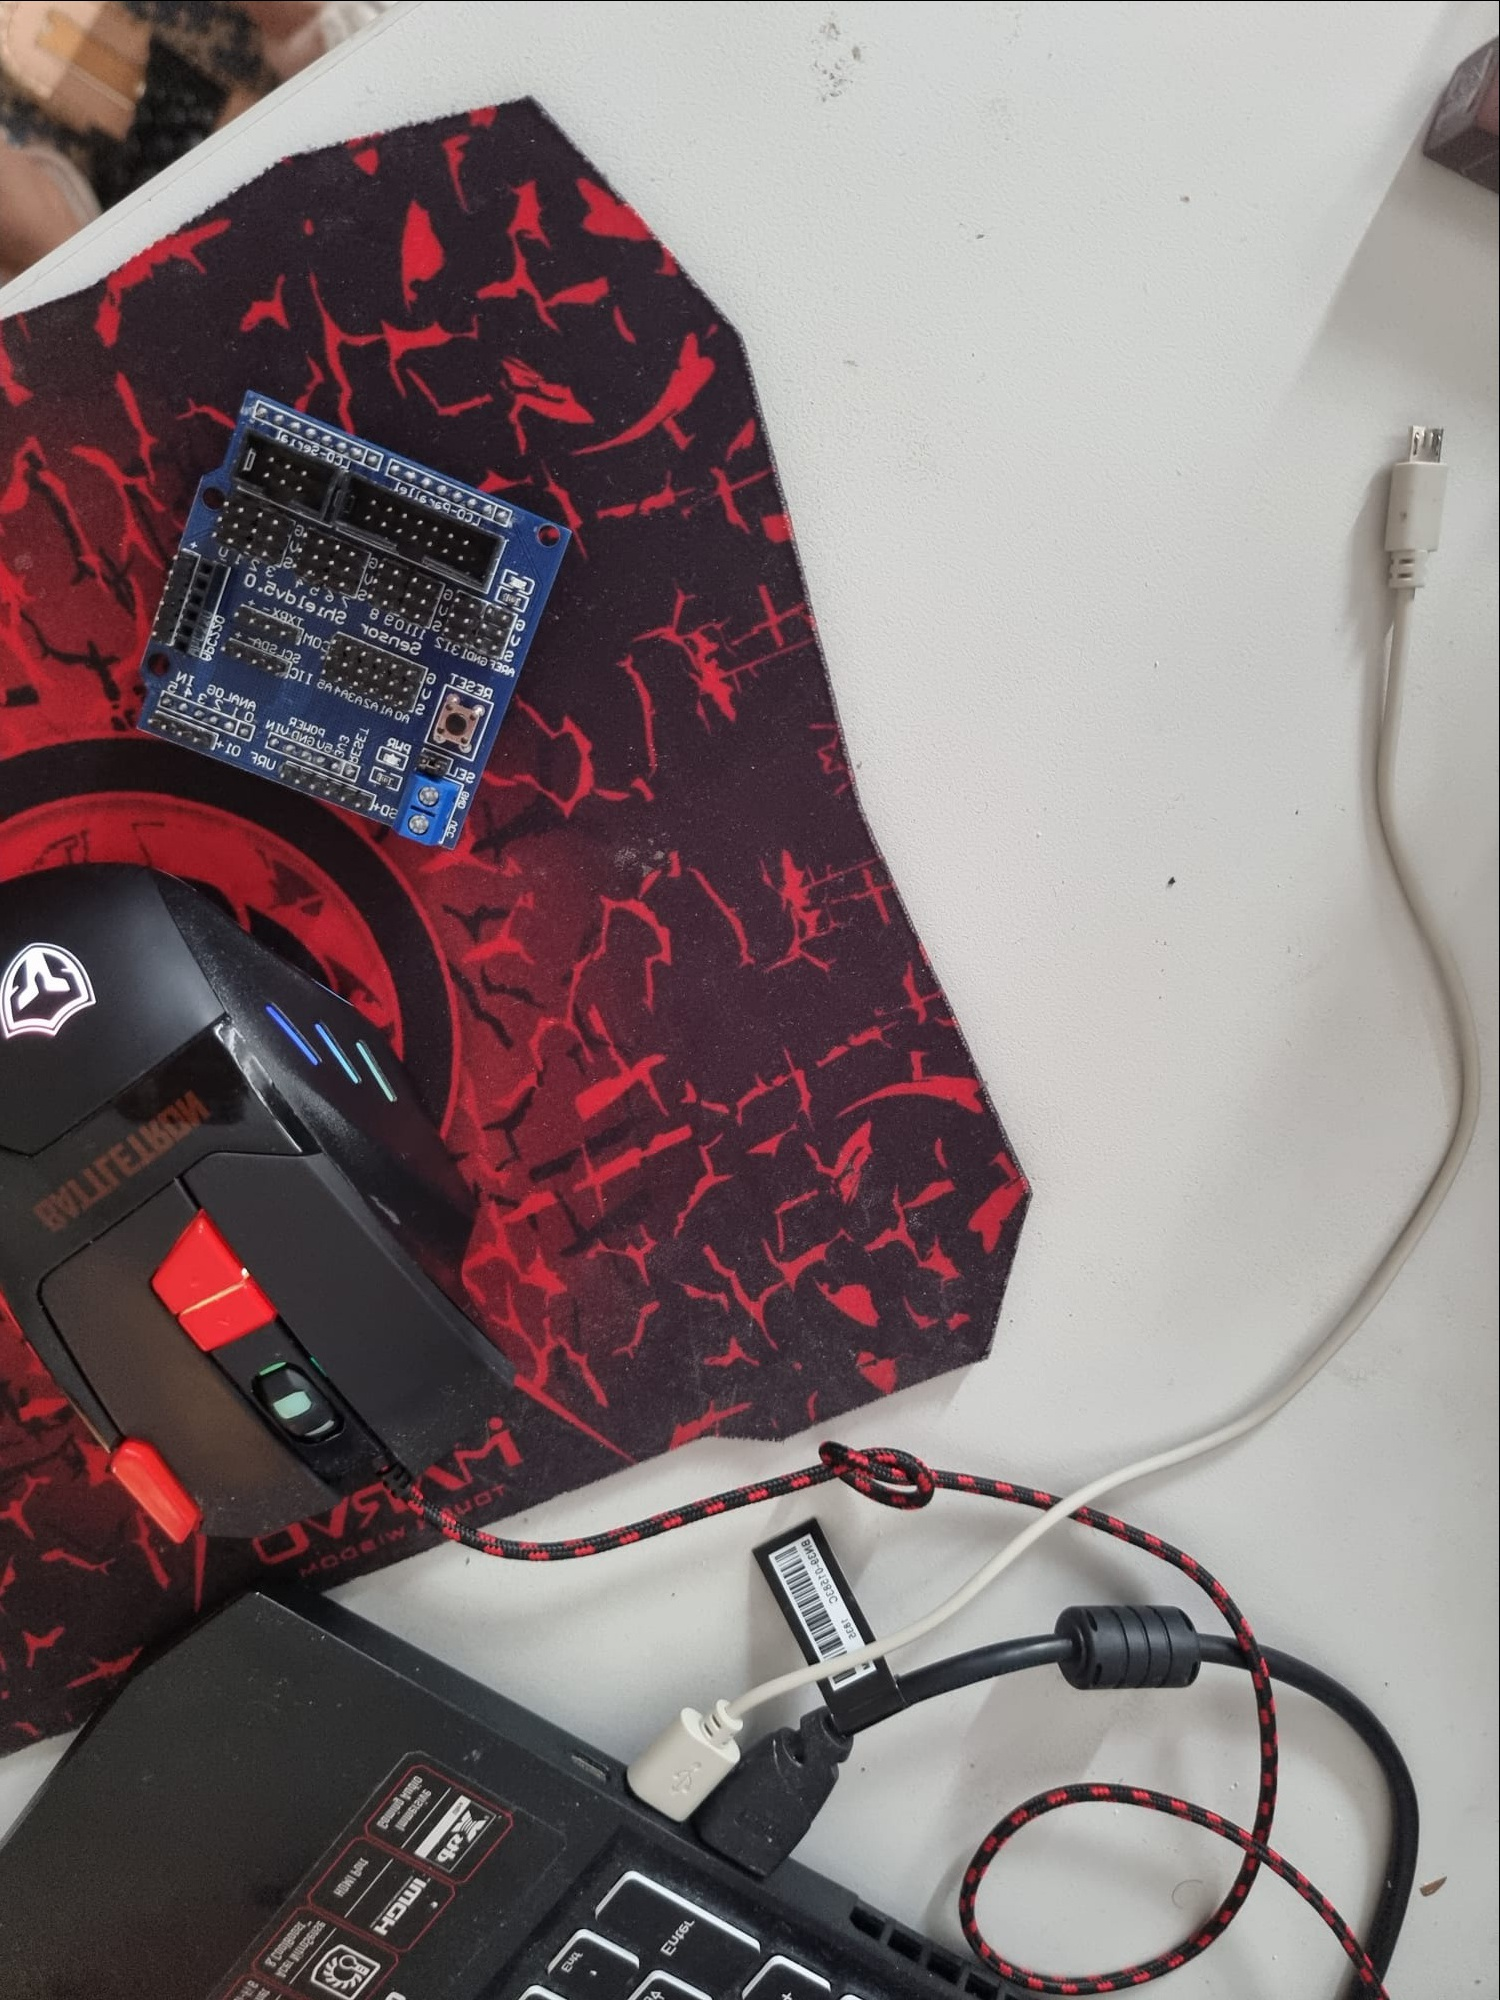5V EXPANSION: (98, 380, 588, 852)
